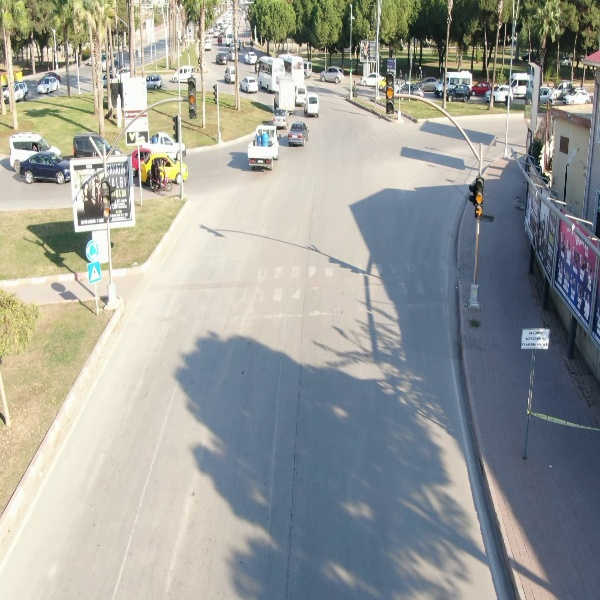car: (17, 151, 75, 185), (286, 122, 312, 148), (169, 62, 196, 86), (34, 74, 64, 94), (485, 84, 515, 103), (303, 92, 322, 121), (442, 84, 474, 101), (318, 65, 346, 83), (359, 73, 388, 89), (236, 76, 259, 96), (272, 108, 291, 131), (242, 49, 260, 67), (214, 51, 233, 68)
